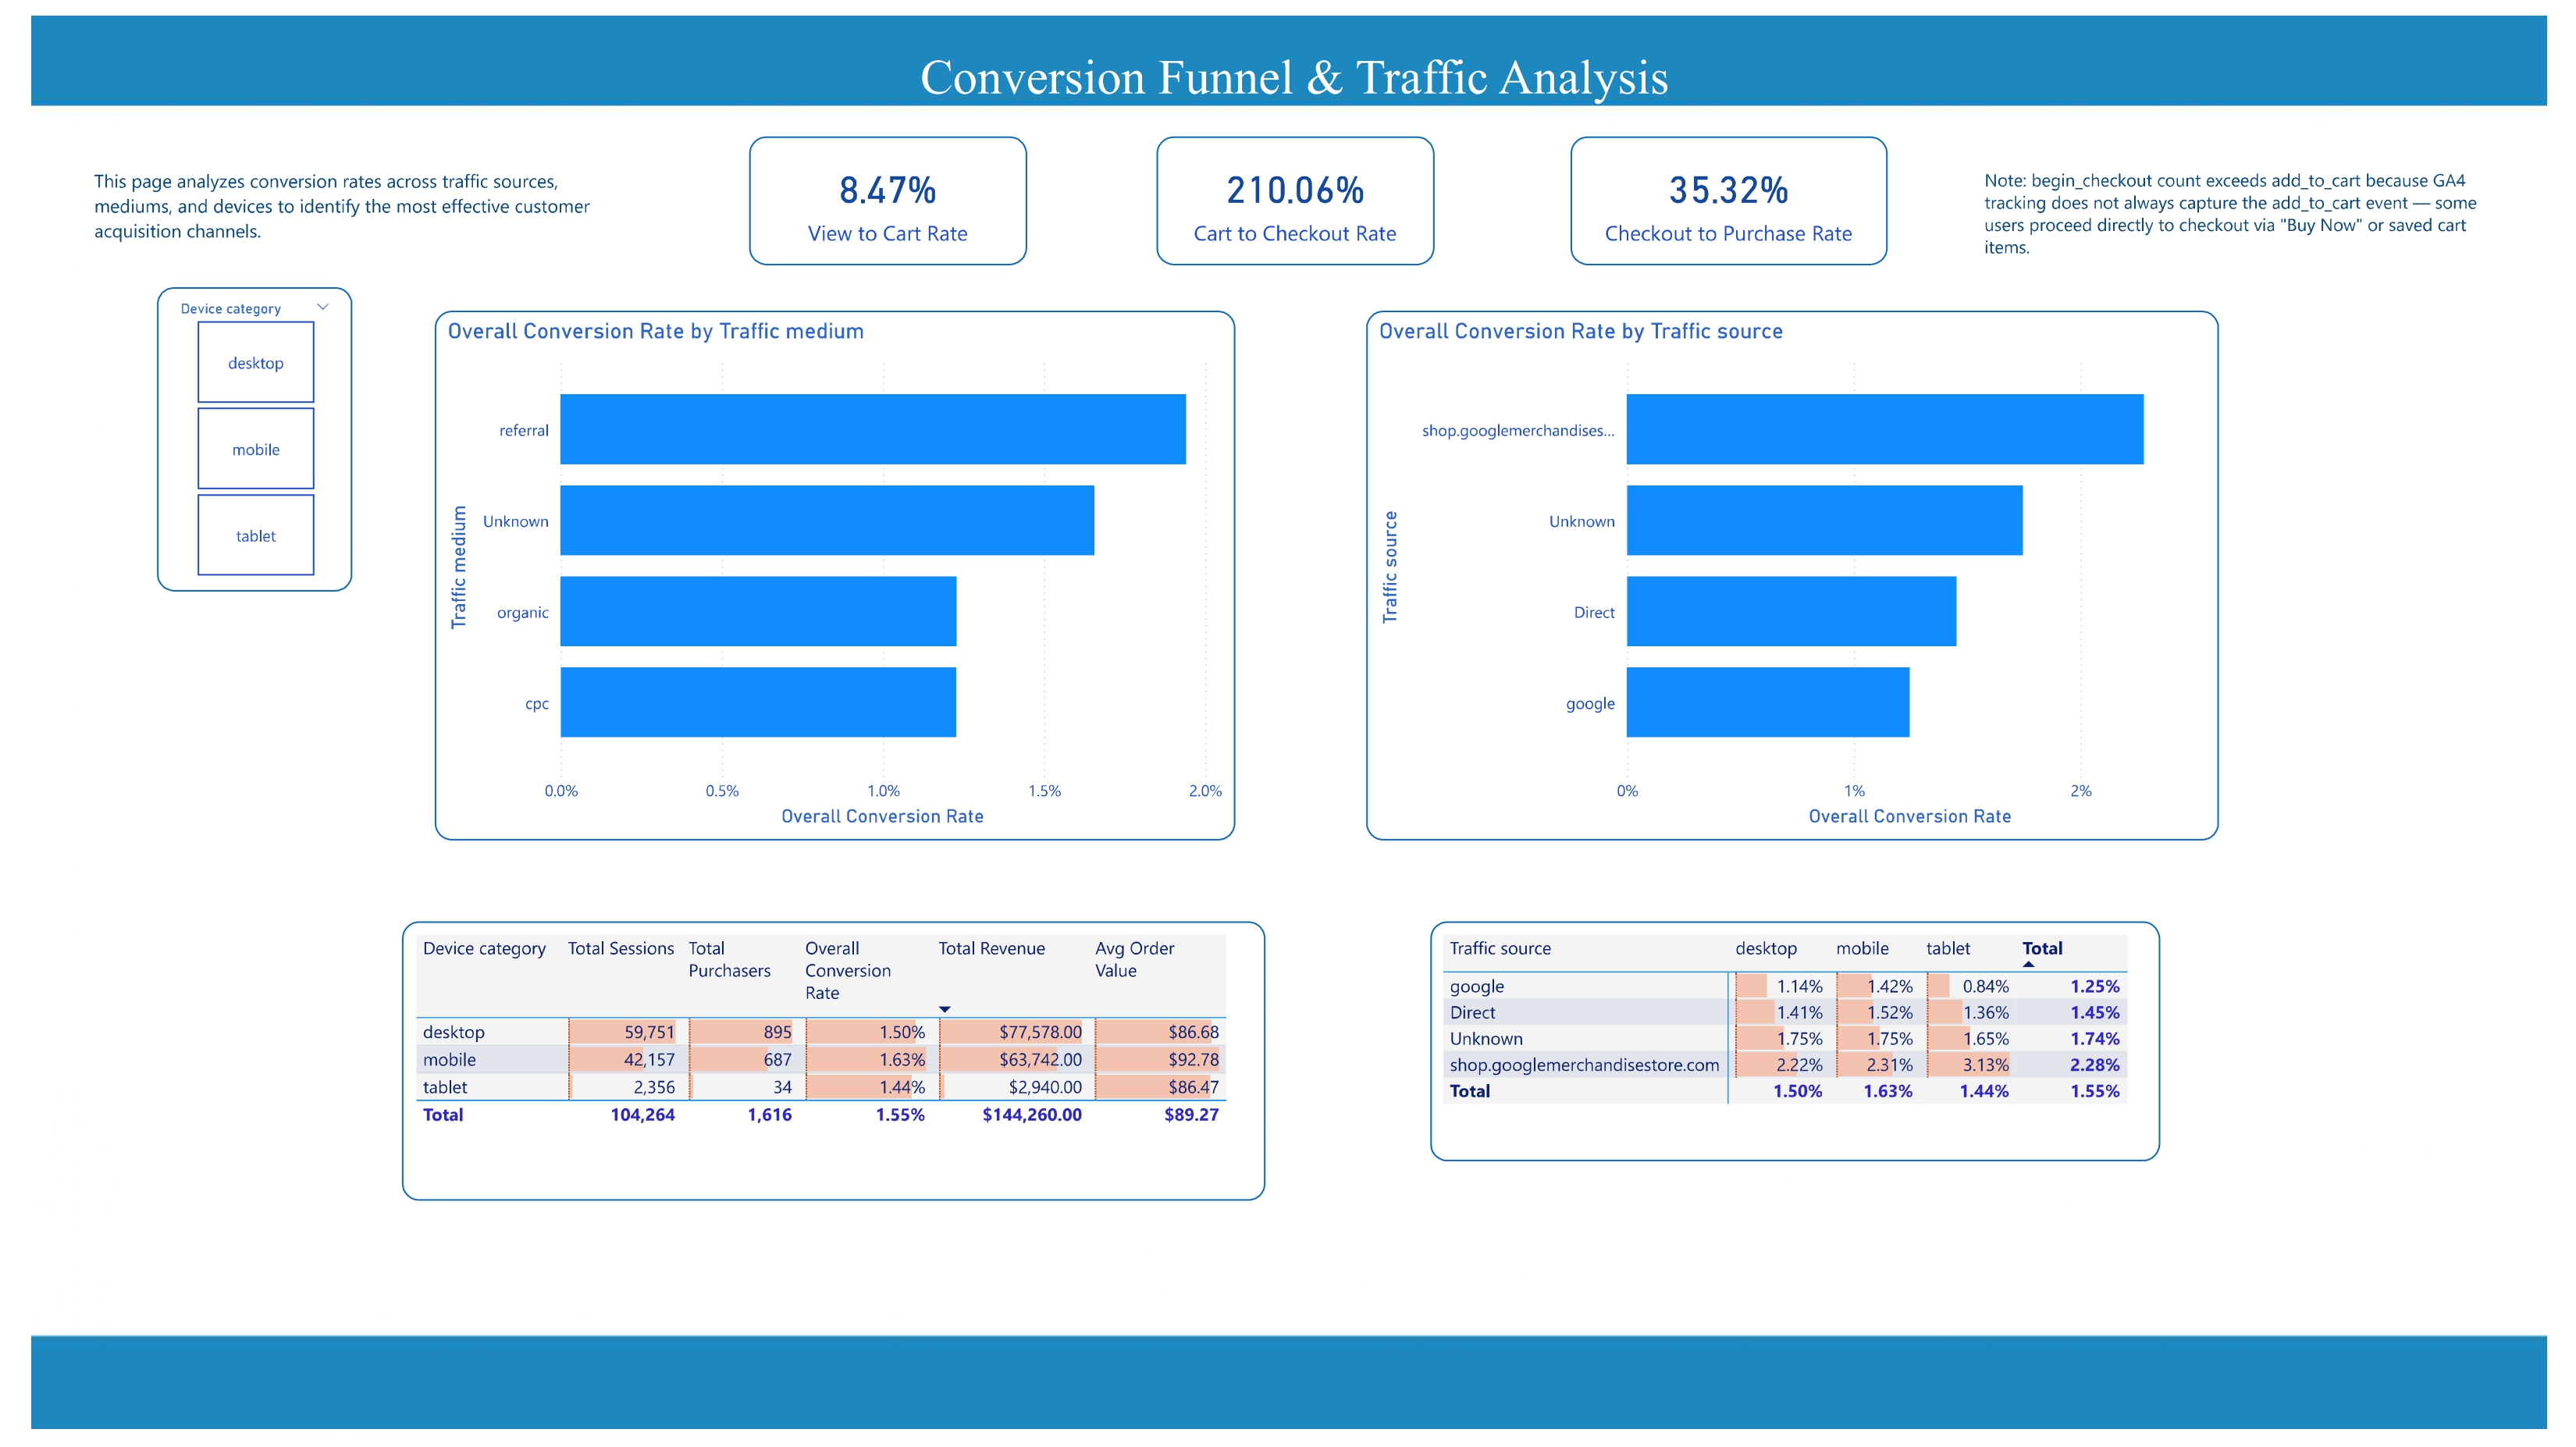

This screenshot's page, from the dashboard's own definition file:
{"tool":"powerbi","page":{"name":"Conversion Funnel & Traffic Analysis","canvas":[1920,1080],"ordinal":1},"visuals":[{"type":"textbox","box":[654.2,19.8,621.2,65.9],"z":0},{"type":"card","fields":{"Values":["_Measures.View to Cart Rate"]},"box":[547.9,91.9,212,97.6],"z":1},{"type":"card","fields":{"Values":["_Measures.Cart to Checkout Rate"]},"box":[859.4,91.9,212,97.6],"z":2},{"type":"card","fields":{"Values":["_Measures.Checkout to Purchase Rate"]},"box":[1174.6,91.9,242.1,97.6],"z":3},{"type":"clusteredBarChart","fields":{"Category":["marts dim_traffic.traffic_source"],"Y":["_Measures.Overall Conversion Rate"]},"box":[1018.9,225.2,651.1,403.4],"z":4},{"type":"clusteredBarChart","fields":{"Y":["_Measures.Overall Conversion Rate"],"Category":["marts dim_traffic.traffic_medium"]},"box":[307.7,225.2,611.7,403.4],"z":5},{"type":"pivotTable","fields":{"Rows":["marts dim_traffic.traffic_source"],"Columns":["marts fact_sessions.device_category"],"Values":["_Measures.Overall Conversion Rate"]},"box":[1067.7,690.5,557.3,183.9],"z":6},{"type":"tableEx","fields":{"Values":["marts fact_sessions.device_category","_Measures.Total Sessions","_Measures.Total Purchasers","_Measures.Overall Conversion Rate","_Measures.Total Revenue","_Measures.Avg Order Value"]},"box":[283.3,690.5,658.6,213.9],"z":7},{"type":"slicer","fields":{"Values":["marts fact_sessions.device_category"]},"box":[95.7,207.4,149.6,231.4],"z":8},{"type":"textbox","box":[43.5,111.1,405.9,96.6],"z":9}]}

Visuals, with their boxes in screenshot pixels (x1, y1, x2, y2), scaled from the page's 1920x1080 canvas onto the 2576x1447 screenshot:
textbox: crop(877, 27, 1711, 115)
card - _Measures.View to Cart Rate: crop(735, 123, 1019, 254)
card - _Measures.Cart to Checkout Rate: crop(1153, 123, 1437, 254)
card - _Measures.Checkout to Purchase Rate: crop(1576, 123, 1901, 254)
clusteredBarChart - marts dim_traffic.traffic_source x _Measures.Overall Conversion Rate: crop(1367, 302, 2240, 842)
clusteredBarChart - _Measures.Overall Conversion Rate x marts dim_traffic.traffic_medium: crop(413, 302, 1233, 842)
pivotTable - marts dim_traffic.traffic_source x marts fact_sessions.device_category: crop(1432, 925, 2180, 1171)
tableEx - marts fact_sessions.device_category x _Measures.Total Sessions: crop(380, 925, 1264, 1212)
slicer - marts fact_sessions.device_category: crop(128, 278, 329, 588)
textbox: crop(59, 149, 603, 279)
